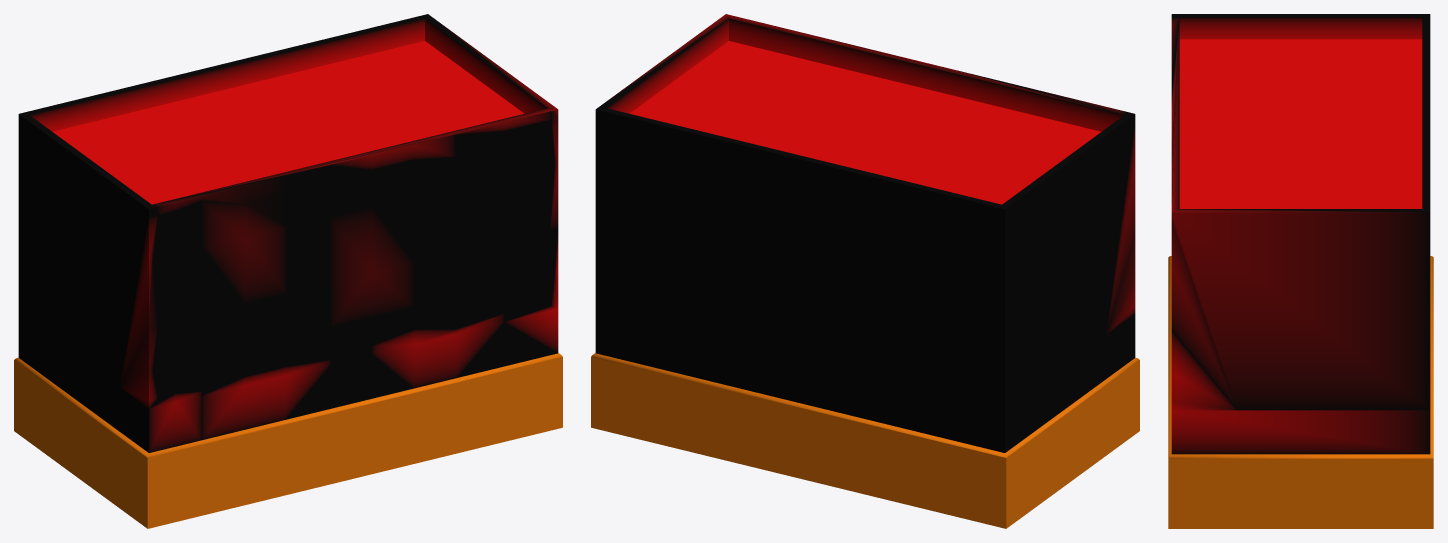
Rendered from House3_collisionSetup.fbx.
3 renders of one model, left to right at view 1: azimuth 30°, elevation 25°; view 2: azimuth 150°, elevation 25°; view 3: azimuth 270°, elevation 25°, orthographic.
Visible parts, largest first — view 1: collisionCube.024, collisionConvex; view 2: collisionCube.024, collisionConvex; view 3: collisionCube.024, collisionConvex.
Boxes of the visible parts, <box> form: collisionCube.024: <box>18,14,558,452</box>; collisionConvex: <box>14,353,562,528</box>; collisionCube.024: <box>595,14,1135,452</box>; collisionConvex: <box>591,353,1139,528</box>; collisionCube.024: <box>1171,14,1430,454</box>; collisionConvex: <box>1168,256,1433,528</box>.
Bounding box in the file's own units: 1470 × 1075 × 820.
